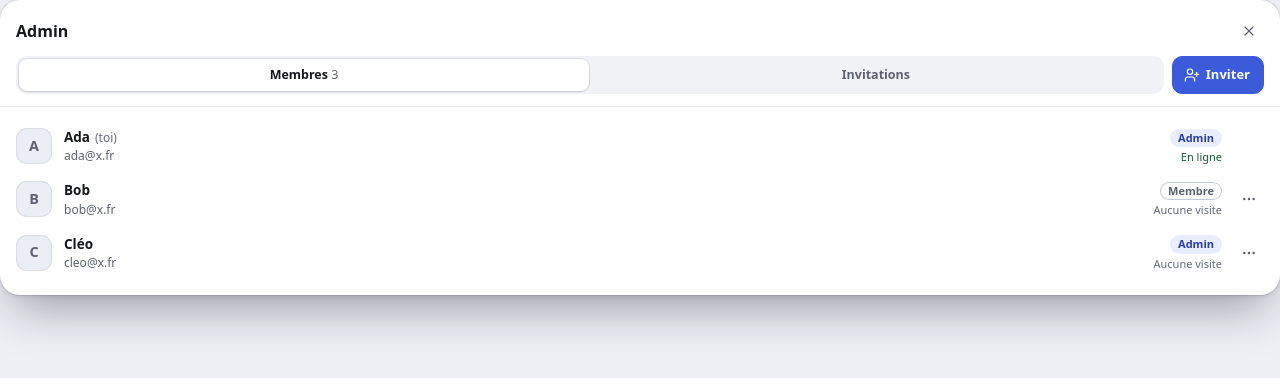
le panneau › les invitations ne se chargent pas : un message et « Réessayer » dans leur onglet, les membres s'affichent
The width and height of the screenshot is (1280, 378).
Expected: the text "bob@x.fr" is shown, top-left (64, 201), bottom-right (116, 218)
Click the tab "Invitations" at (876, 75), box top-left (591, 59), bottom-right (1161, 91)
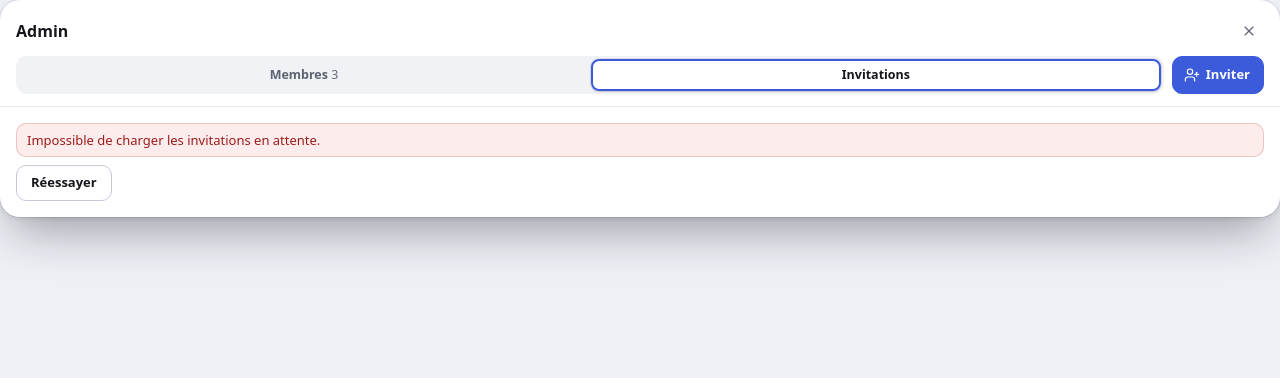
Now the message reads "Impossible de charger les invitations en attente.", box top-left (27, 131), bottom-right (320, 149)
Click the button "Réessayer" at (64, 183), box top-left (16, 165), bottom-right (112, 201)
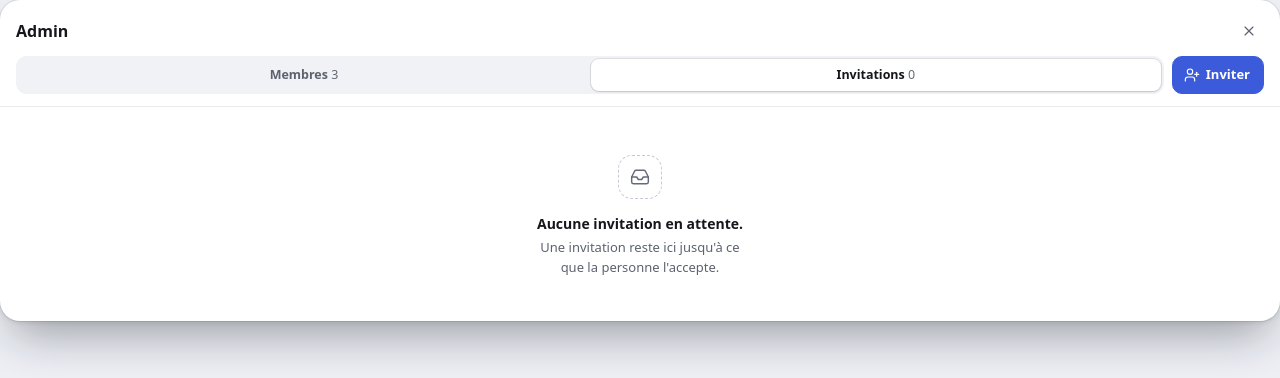
Now the text "Aucune invitation en attente." is shown, box top-left (537, 213), bottom-right (743, 234)
Now the message "Impossible de charger les invitations en attente." is gone
